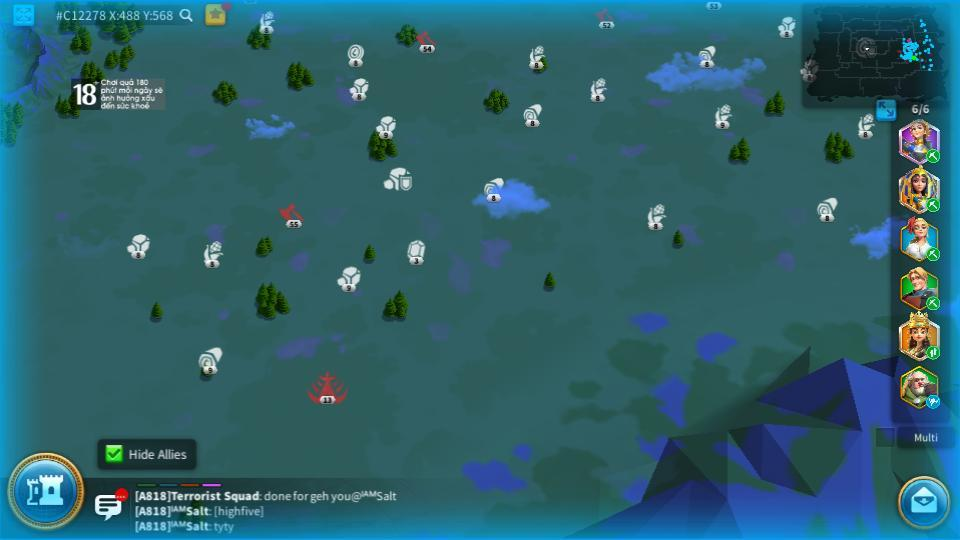gem-z-out: (404, 240, 426, 264)
march_idle: (925, 395, 942, 407)
march_marching: (925, 345, 941, 359), (925, 199, 941, 212)
